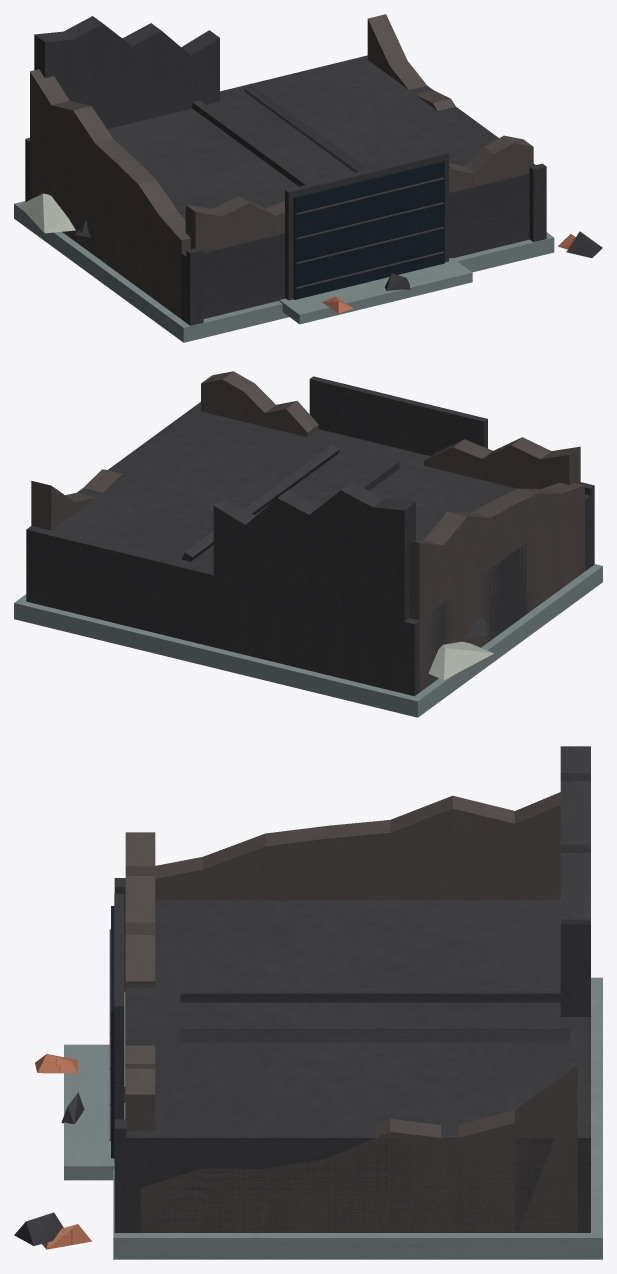
File: warehouse-ruined-lod.glb
3 renders of one model, top to bottom at view 1: azimuth 30°, elevation 25°; view 2: azimuth 150°, elevation 25°; view 3: azimuth 270°, elevation 25°, orthographic. The views are drawn at different scales.
Parts seen in each view (by area): view 1: warehouse-ruined-lod; view 2: warehouse-ruined-lod; view 3: warehouse-ruined-lod.
Part boxes in pixels (box(x1,y1,x2,y2)): warehouse-ruined-lod: box(14, 14, 602, 342); warehouse-ruined-lod: box(14, 371, 602, 717); warehouse-ruined-lod: box(14, 746, 602, 1259).
Size of the model in its own units: 8.09 by 3.52 by 6.95.
1 material, 1 textured.
